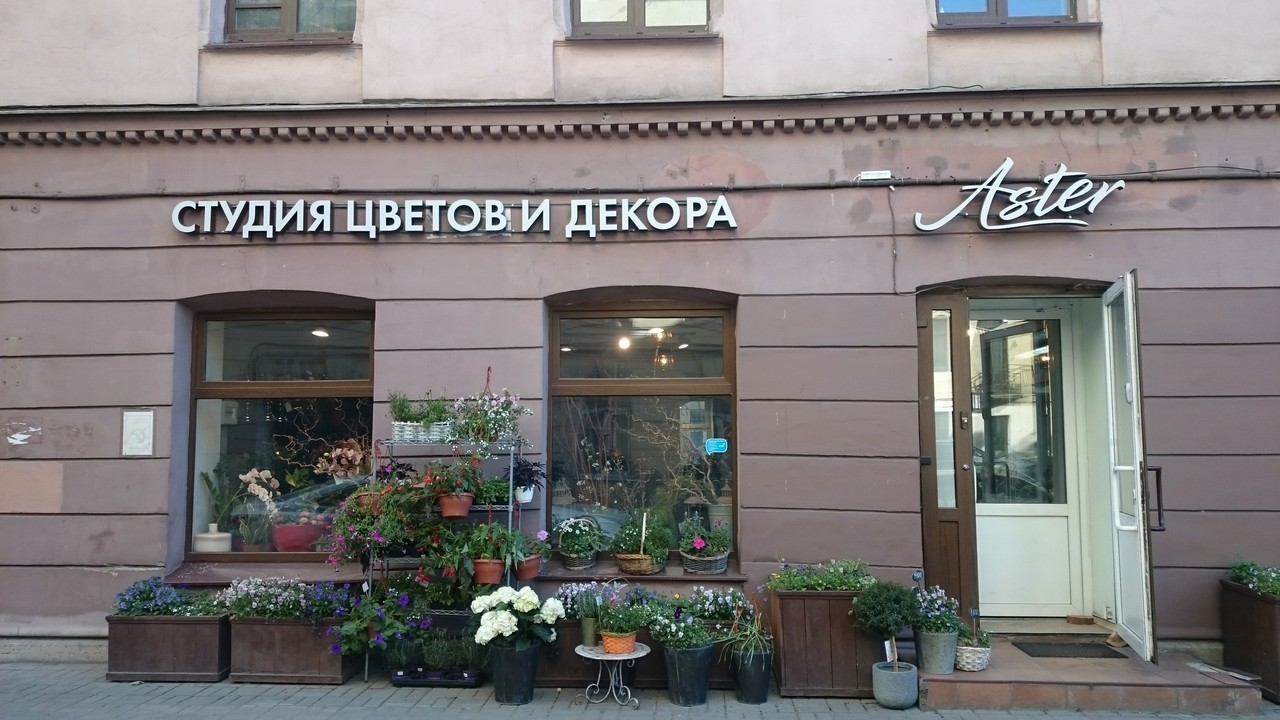door: (963, 280, 1157, 659)
signboard: (167, 195, 736, 237), (908, 154, 1128, 228)
window: (549, 309, 739, 567), (185, 308, 375, 560)
